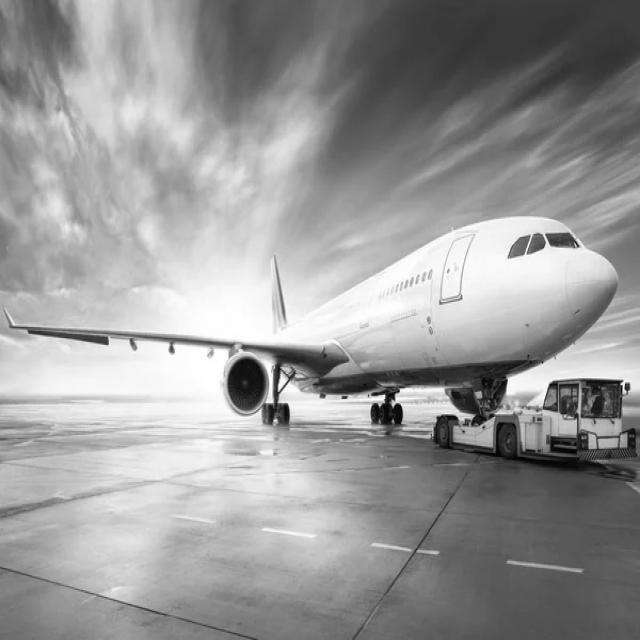Aircraft: (0, 206, 626, 456)
